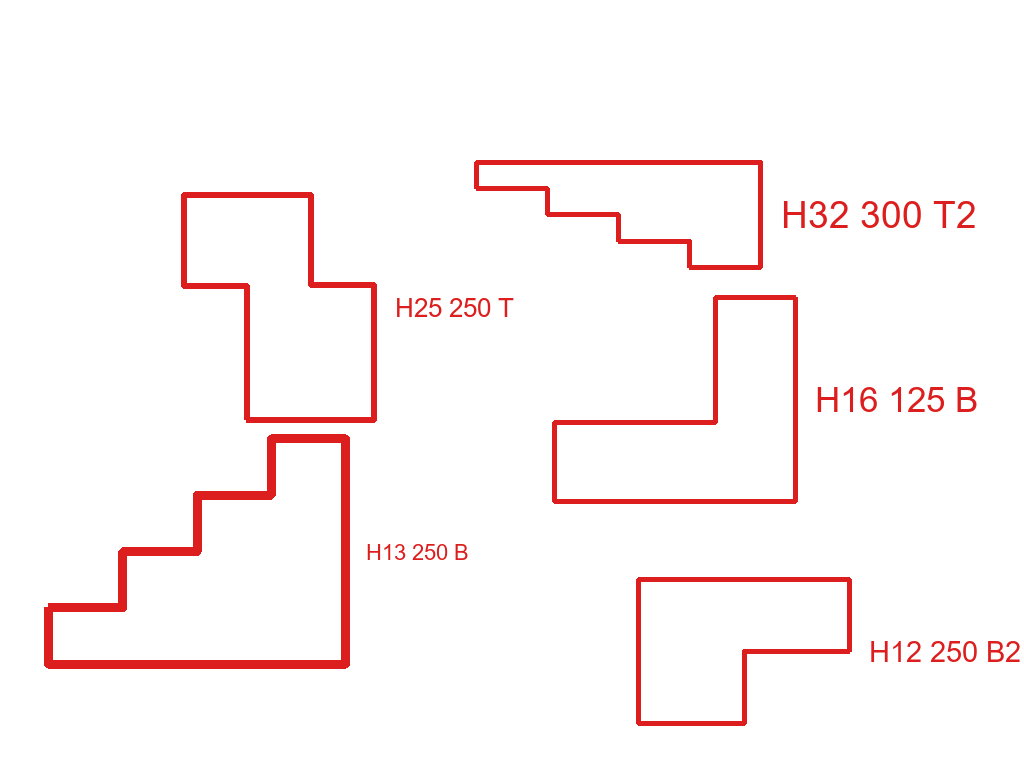shape: (42, 432, 352, 671), (550, 293, 800, 506), (179, 191, 380, 424), (634, 575, 854, 728), (472, 158, 765, 272)
text: (779, 199, 979, 230), (813, 385, 980, 414), (867, 639, 1023, 664), (393, 296, 516, 319), (364, 542, 471, 562)
